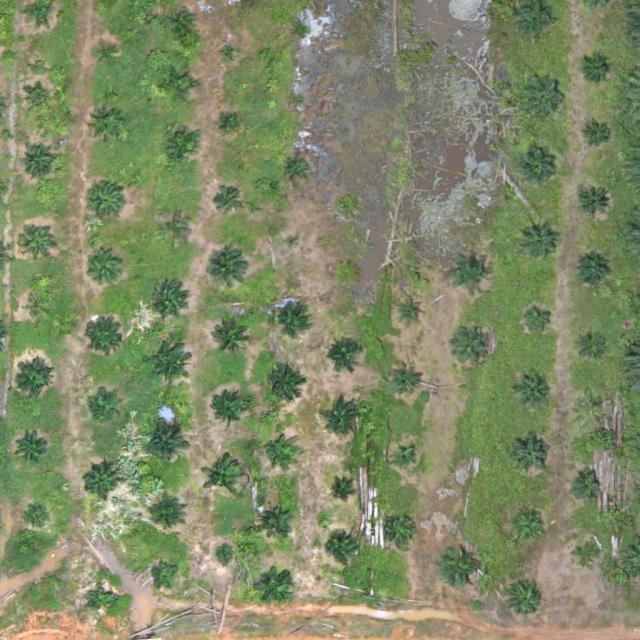Healthy: (202, 455, 249, 503)
Small: (146, 341, 193, 389), (204, 249, 251, 297), (207, 392, 254, 439), (145, 424, 192, 471), (209, 313, 256, 360), (439, 543, 486, 590), (521, 72, 568, 119), (450, 252, 490, 292), (272, 297, 312, 337), (257, 500, 297, 540), (507, 580, 547, 620), (457, 325, 497, 364), (326, 398, 365, 438), (18, 142, 57, 182), (87, 317, 126, 357), (265, 365, 305, 404), (87, 107, 126, 147), (86, 182, 125, 222), (150, 497, 189, 537), (82, 465, 122, 504), (518, 152, 558, 191), (512, 435, 551, 475), (507, 507, 547, 546), (13, 361, 52, 400), (326, 336, 365, 375), (151, 281, 190, 320), (162, 128, 201, 167), (88, 252, 127, 291), (19, 223, 58, 262), (16, 428, 55, 467), (258, 566, 297, 605), (519, 221, 558, 260), (512, 370, 551, 409), (573, 253, 612, 292), (575, 183, 614, 222), (161, 66, 200, 105), (577, 326, 608, 358), (576, 387, 607, 419), (570, 467, 601, 499), (524, 302, 555, 334), (153, 559, 184, 591), (87, 585, 118, 617), (24, 502, 55, 534), (580, 52, 611, 84), (213, 186, 244, 218), (263, 433, 294, 464), (88, 391, 119, 422), (326, 535, 357, 566), (389, 515, 420, 546), (573, 540, 604, 571), (390, 364, 421, 395), (160, 215, 191, 246), (583, 120, 614, 151), (284, 154, 315, 185), (22, 86, 53, 117), (400, 300, 424, 324), (394, 449, 418, 473), (212, 545, 236, 569), (336, 262, 360, 286), (220, 42, 244, 66), (172, 12, 196, 36), (97, 45, 121, 69), (329, 480, 352, 504), (28, 296, 51, 320), (221, 115, 237, 131), (286, 234, 302, 249)
